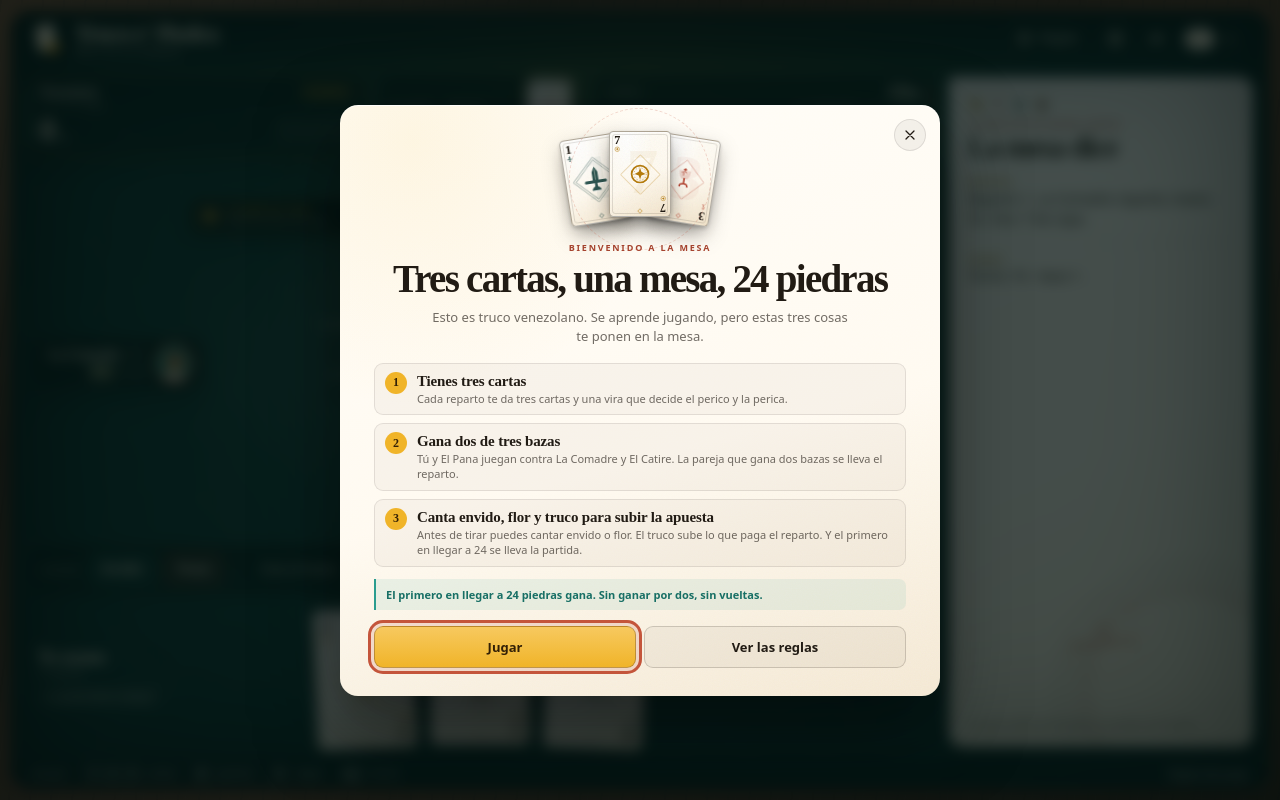
Scenario: the first-visit welcome › shows three steps once, focuses Jugar and remembers the visit
This screenshot has width=1280, height=800.
Check: the text "Tienes tres cartas" is shown, box [417,372,526,388]
Check: the text "Gana dos de tres bazas" is shown, box [417,432,560,448]
Click the button "Jugar" at [505, 646], box [374,626,636,668]
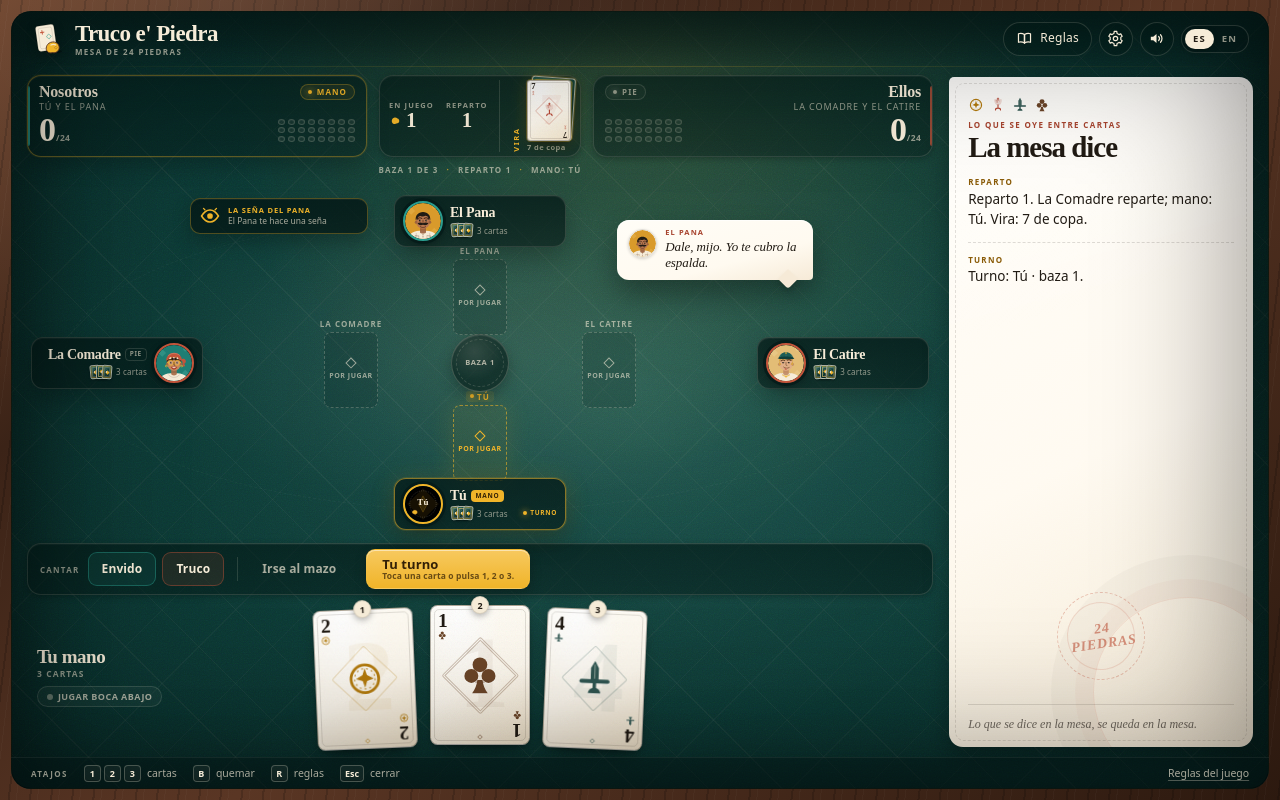
Check: the dialog is gone
